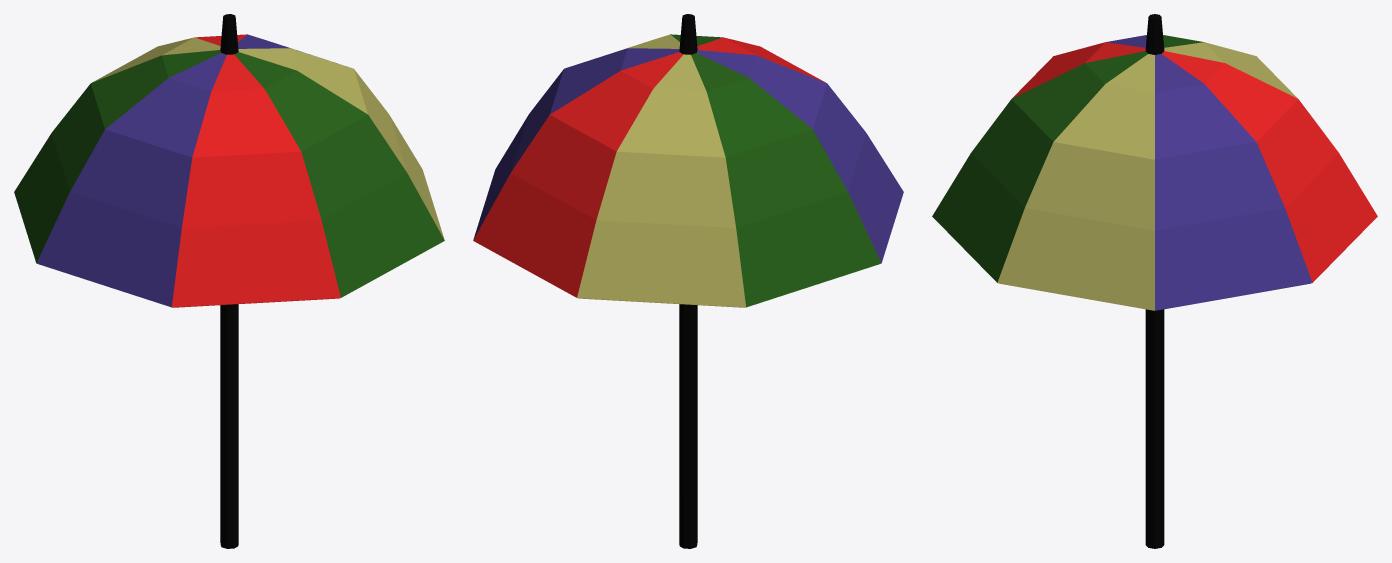
Rendered from parapluie.fbx.
The picture shows the model from 3 angles, left to right: view 1: azimuth 30°, elevation 25°; view 2: azimuth 150°, elevation 25°; view 3: azimuth 270°, elevation 25°; orthographic projection.
Visible parts, largest first — view 1: Sphere; view 2: Sphere; view 3: Sphere.
Part boxes in pixels (bbox=[...]): Sphere: bbox=[14, 14, 444, 548]; Sphere: bbox=[473, 14, 903, 548]; Sphere: bbox=[932, 14, 1377, 548].
Bounding box in the file's own units: 97.38 × 127 × 97.38.
